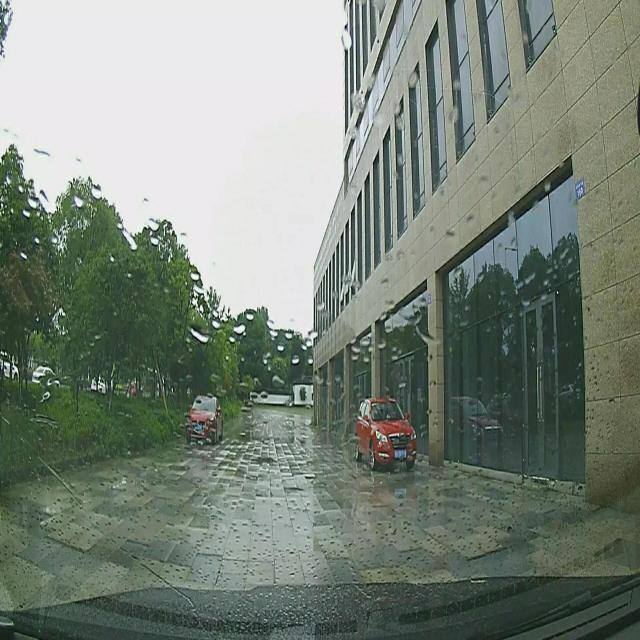car: (352, 396, 418, 469), (184, 394, 222, 444)
